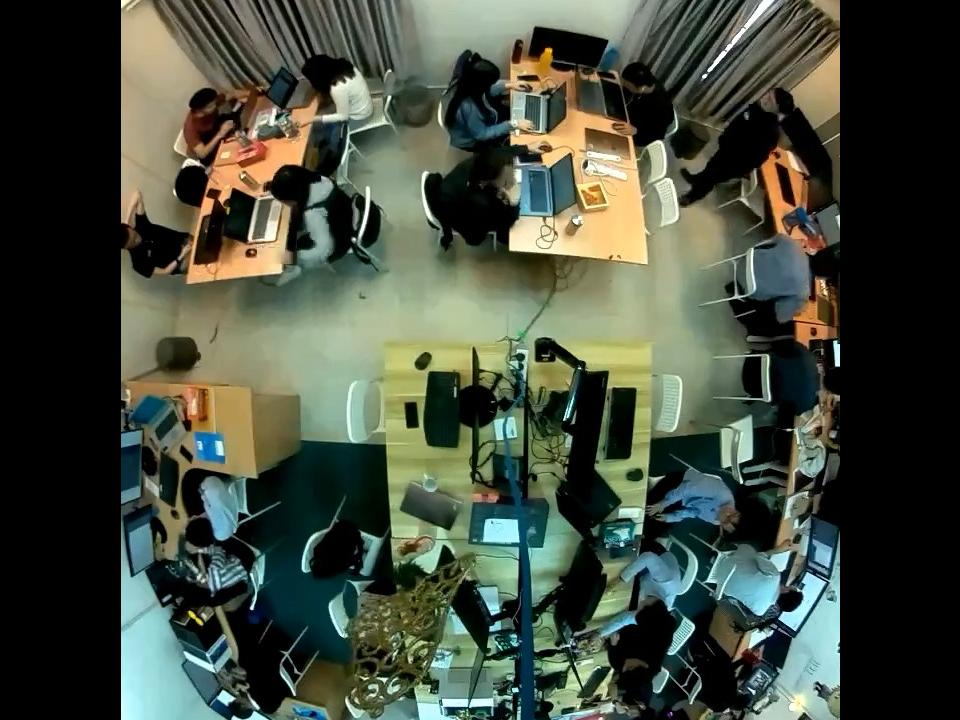name-tag: (740, 110, 751, 122)
